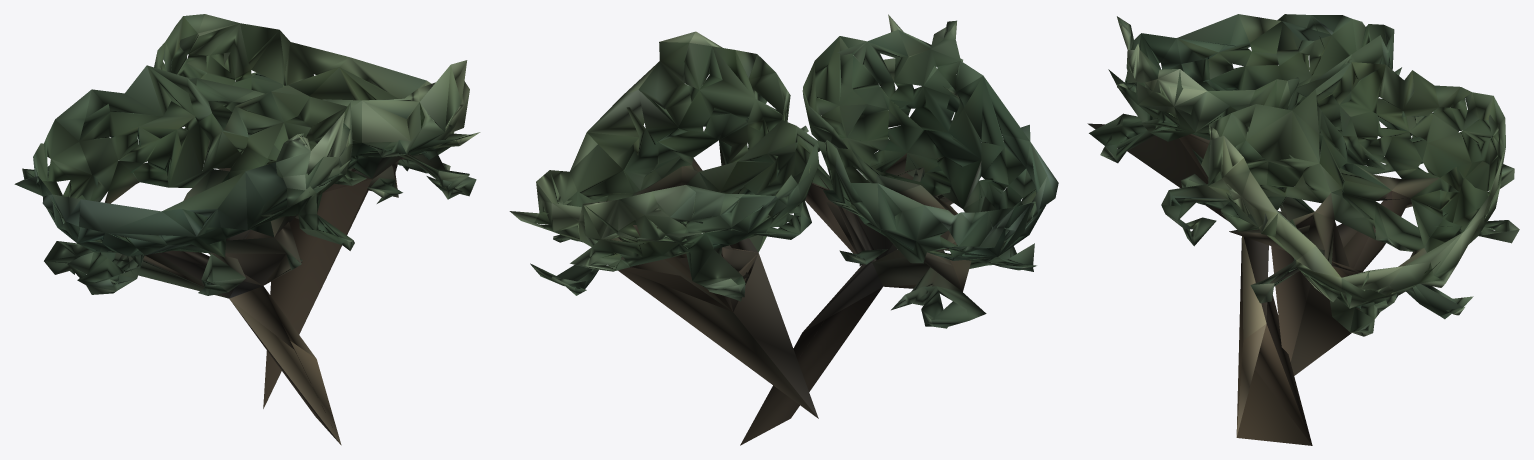
The model's file is olivier.glb.
The picture shows the model from 3 angles, left to right: view 1: azimuth 30°, elevation 25°; view 2: azimuth 150°, elevation 25°; view 3: azimuth 270°, elevation 25°; orthographic projection. The views are drawn at different scales.
Visible parts, largest first — view 1: tripo_part_0; view 2: tripo_part_0; view 3: tripo_part_0.
Part boxes in pixels (left/top/right/bottom): tripo_part_0: left=14, top=14, right=480, bottom=445; tripo_part_0: left=509, top=14, right=1058, bottom=445; tripo_part_0: left=1087, top=14, right=1519, bottom=445.
Size of the model in its own units: 0.8846 by 0.7075 by 0.7415.
